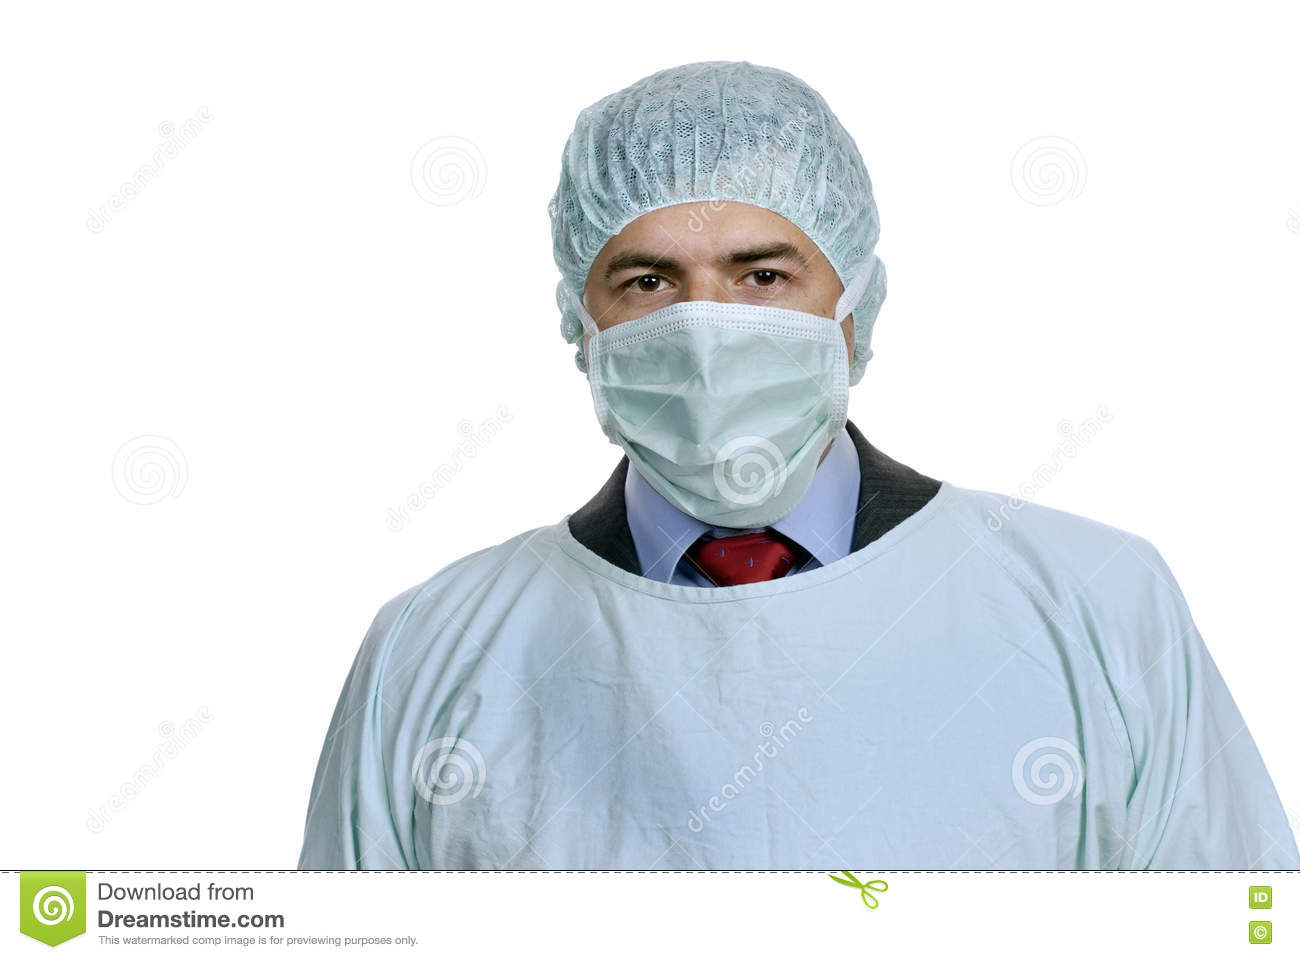mask: (581, 303, 857, 534)
